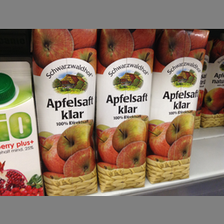juice: (29, 29, 98, 195), (94, 29, 157, 190), (149, 29, 209, 184)
